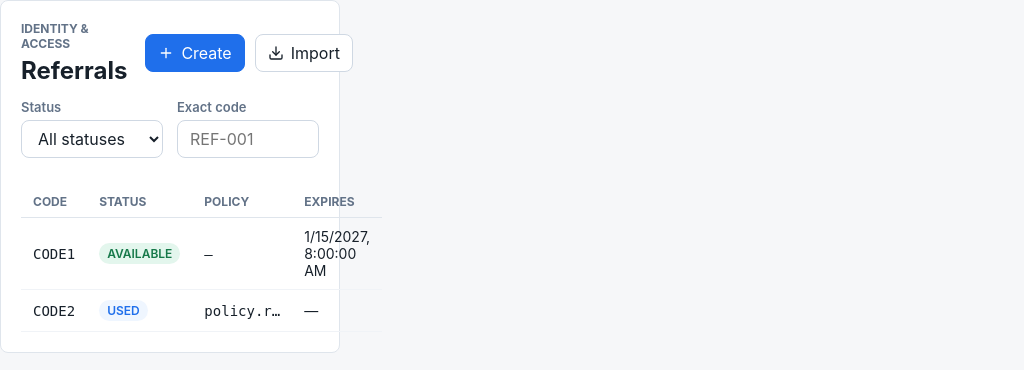
ReferralWorkspace › shows referral detail when a row is clicked
Step 1. Click the text "CODE1" → (54, 254), box x1=21 y1=218 x2=87 y2=290
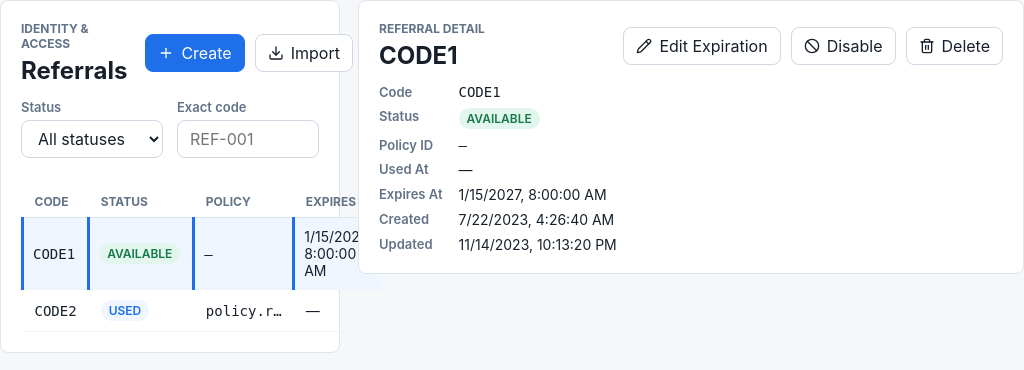
Expected: the text "Referral Detail" is shown, x1=379 y1=21 x2=485 y2=36
